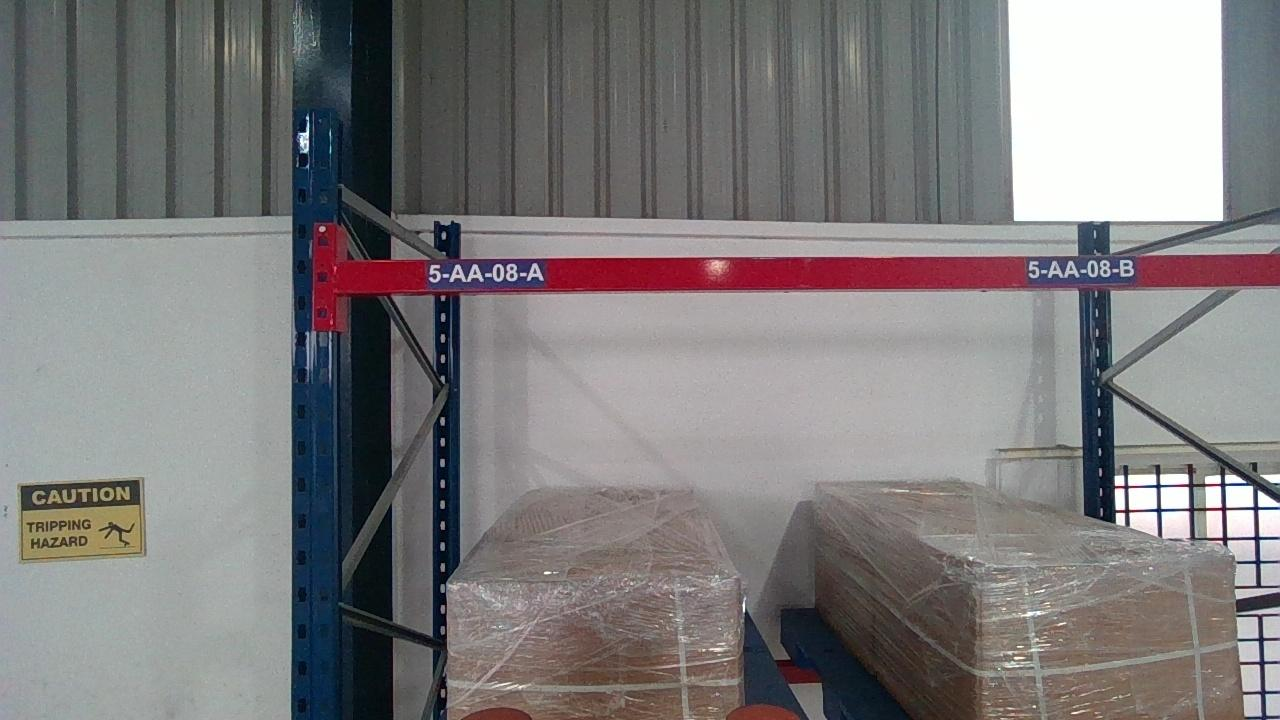h_rack: (334, 260, 1280, 287)
